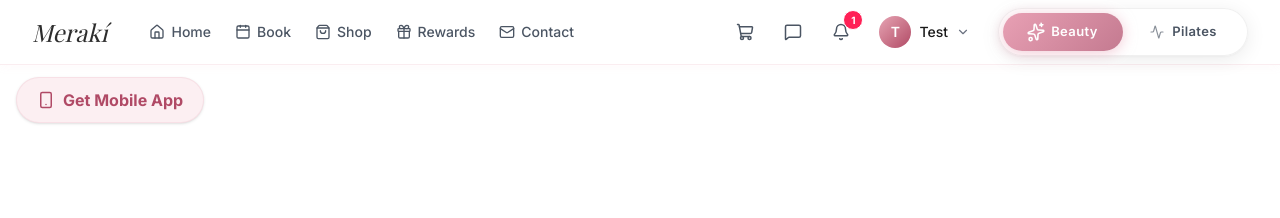
MainNavbar › Authenticated state › toggles notifications dropdown and marks as seen
Click the button named "Notifications" at (841, 32), box [823,14,859,50]
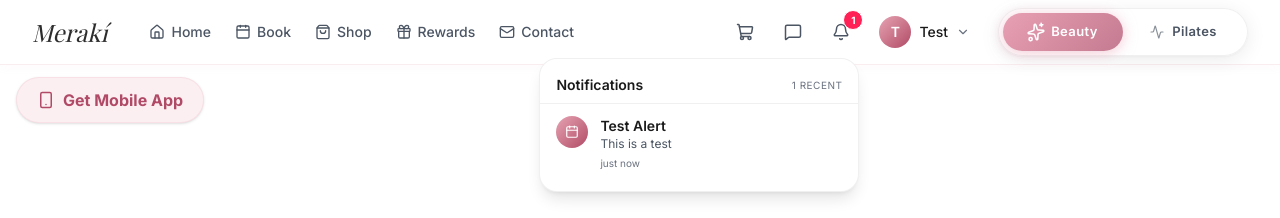
Expected: the text "Test Alert" is shown, [600,117,666,134]
Expected: the text "This is a test" is shown, [600,136,672,151]
